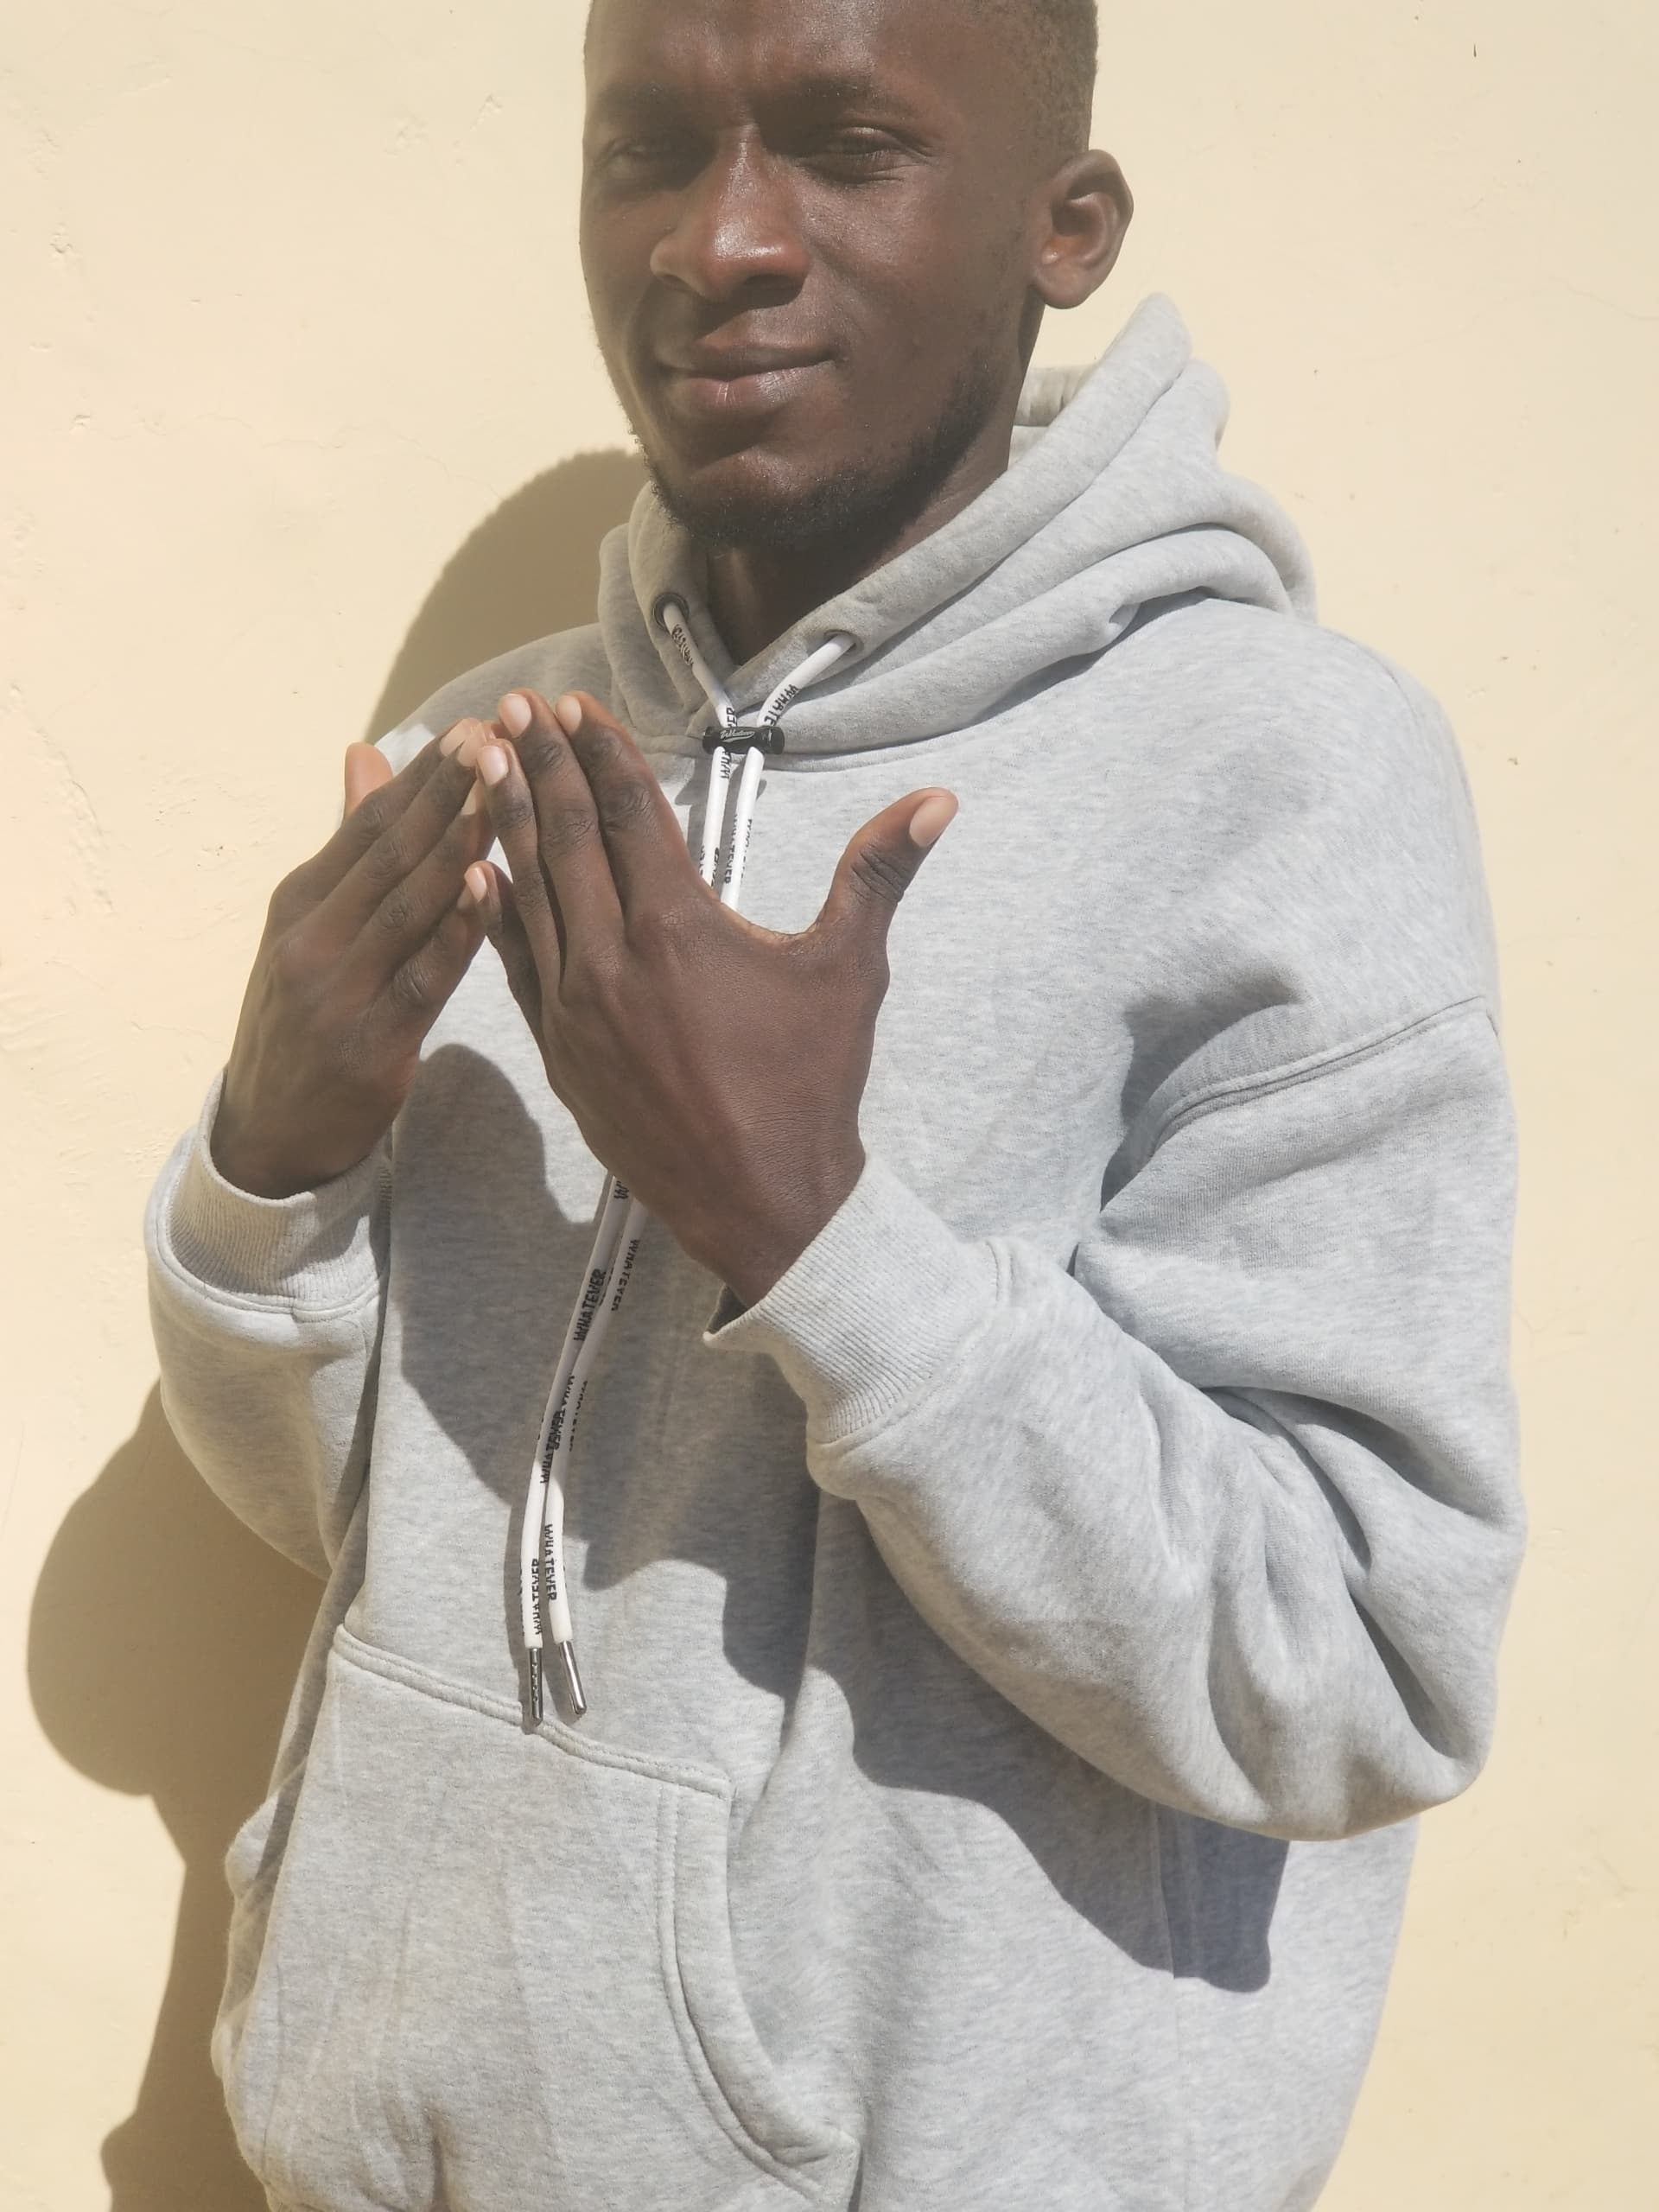thankyou: (122, 641, 1007, 1381)
